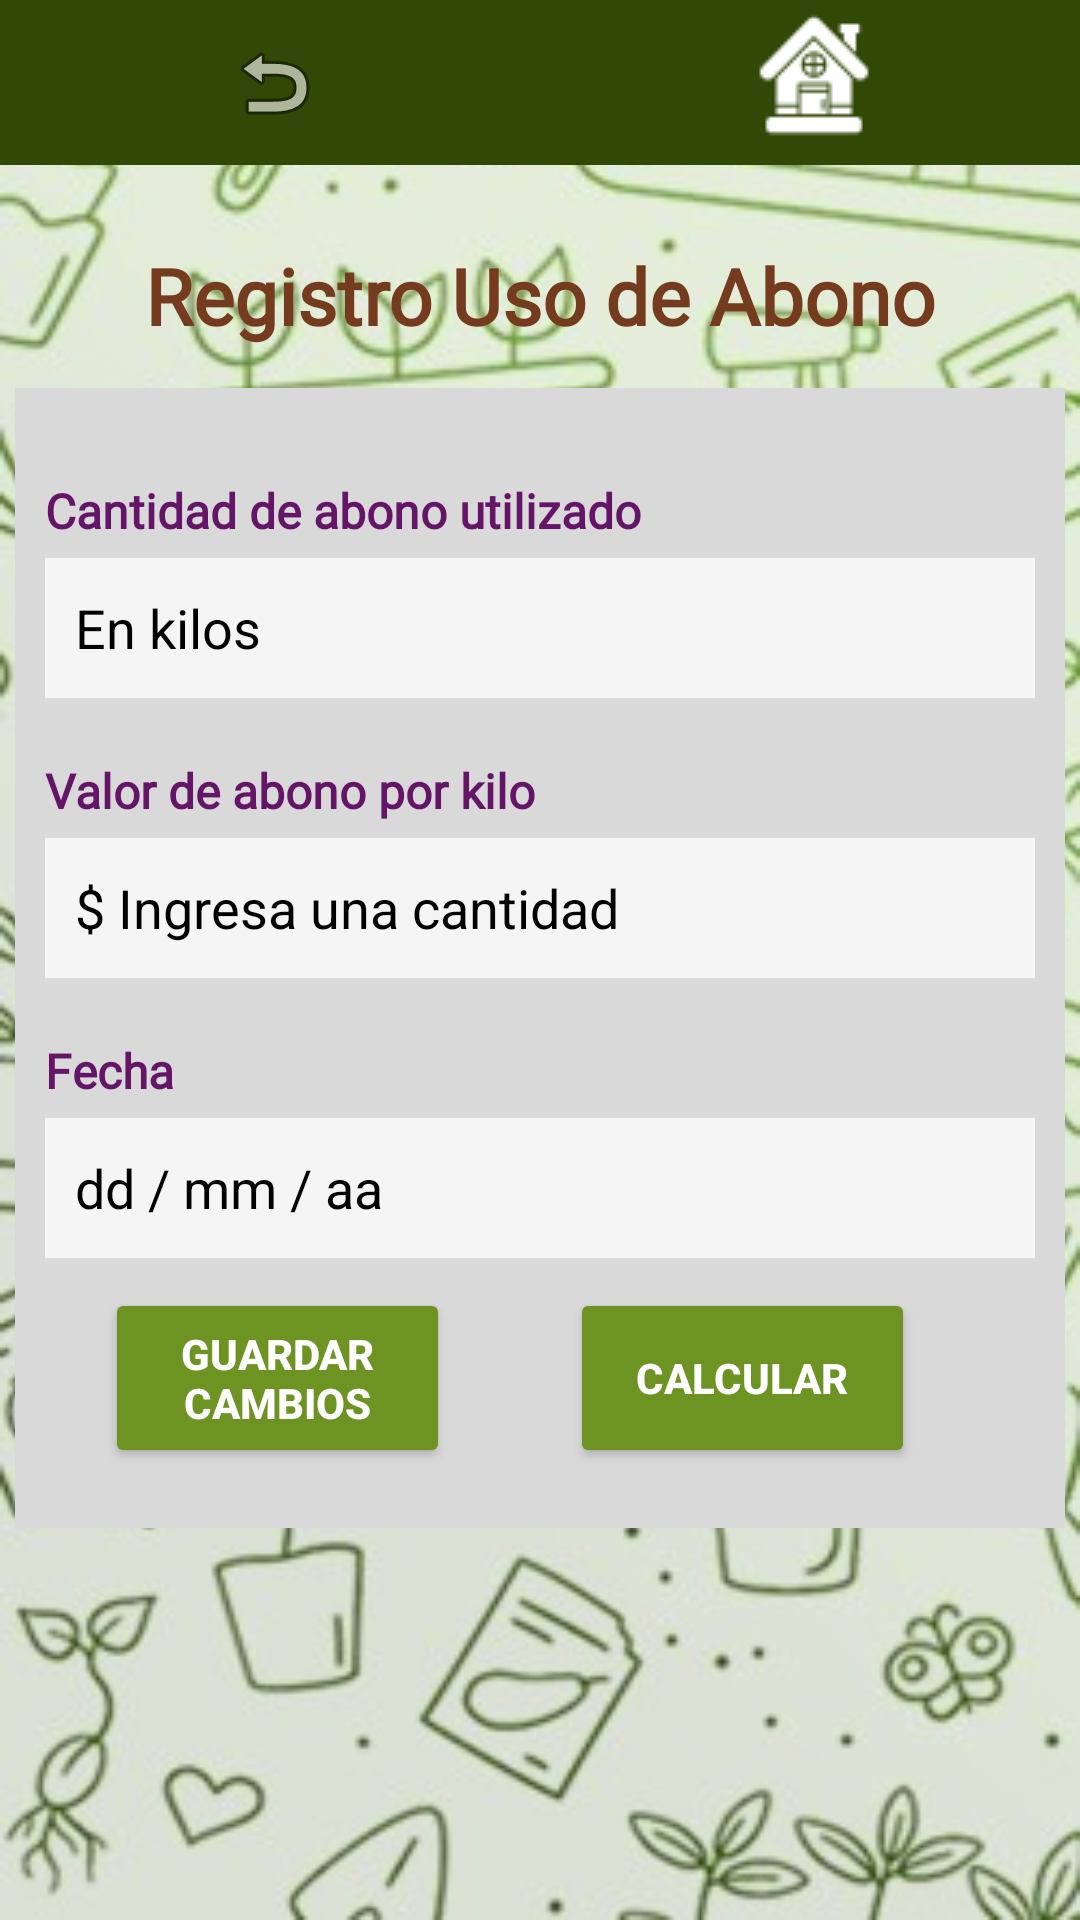

Icon click points for this 1080×1920 phone screenshot, format (x=x, y=y):
Home: (x=814, y=75)
